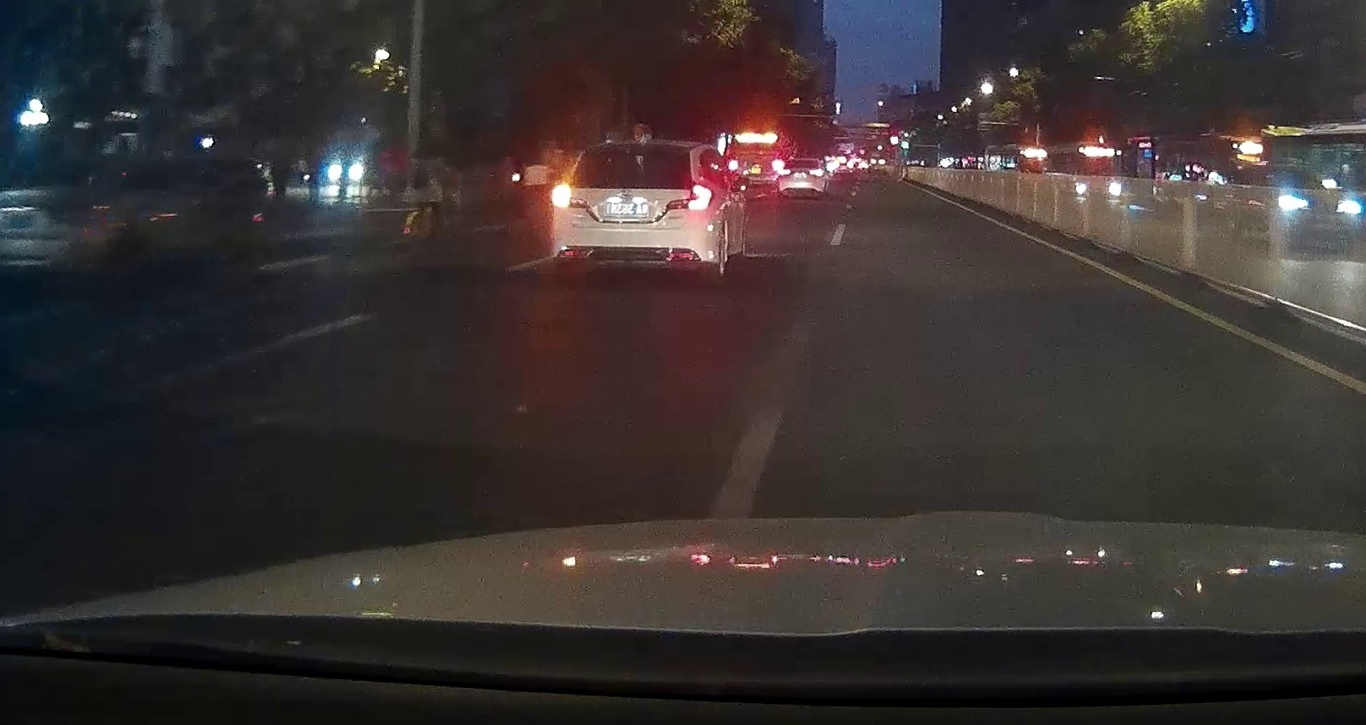L_light: (551, 196, 589, 210), (779, 169, 791, 176)
R_light: (667, 199, 708, 210), (810, 170, 823, 177)
T_light: (632, 144, 649, 150), (800, 159, 808, 163)
night-no: (550, 140, 716, 285), (778, 158, 824, 199)
